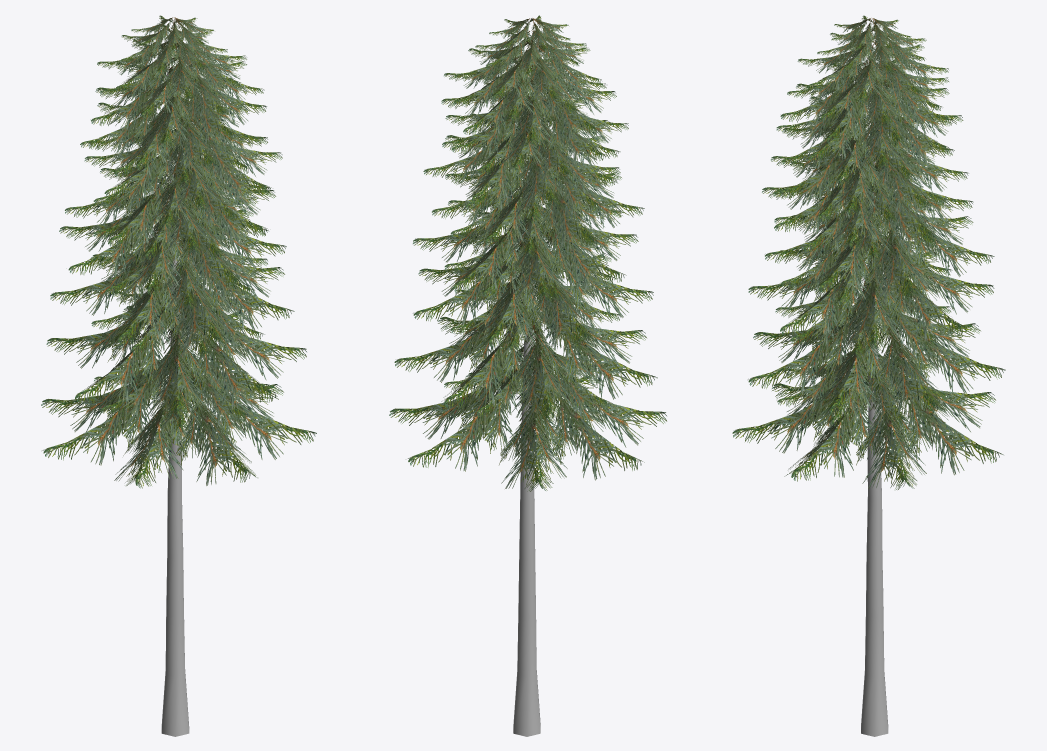
File: Fir_Full.fbx
3 renders of one model, left to right at view 1: azimuth 30°, elevation 25°; view 2: azimuth 150°, elevation 25°; view 3: azimuth 270°, elevation 25°, orthographic.
Visible parts, largest first — view 1: FirGroup, tree.003; view 2: FirGroup, tree.003; view 3: FirGroup, tree.003.
Boxes of the visible parts, bbox=[...] form: FirGroup: bbox=[41, 15, 316, 488]; tree.003: bbox=[161, 42, 189, 736]; FirGroup: bbox=[389, 15, 666, 491]; tree.003: bbox=[513, 45, 540, 736]; FirGroup: bbox=[732, 15, 1005, 489]; tree.003: bbox=[861, 38, 888, 736].
Bounding box in the file's own units: 1887 × 4598 × 1847.
